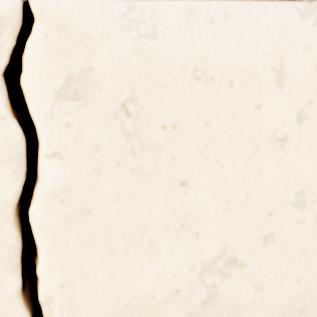broken_brick: (22, 0, 316, 316), (0, 77, 26, 316), (0, 0, 20, 72)
crack: (0, 0, 47, 316)
